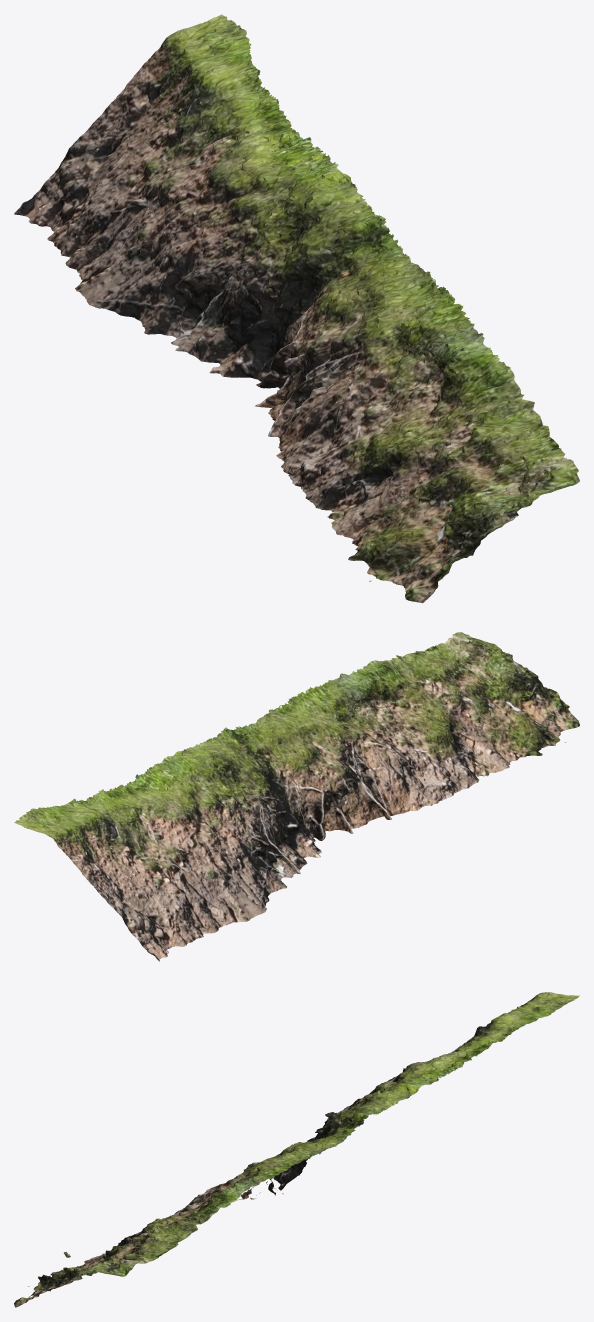
3 views of the same model, one above another, from view 1: azimuth 30°, elevation 25°; view 2: azimuth 150°, elevation 25°; view 3: azimuth 330°, elevation 25° (orthographic). The views are drawn at different scales.
Bounding box in the file's own units: 5.61 × 2.54 × 15.26.
Materials: 1 (1 with a texture image).
